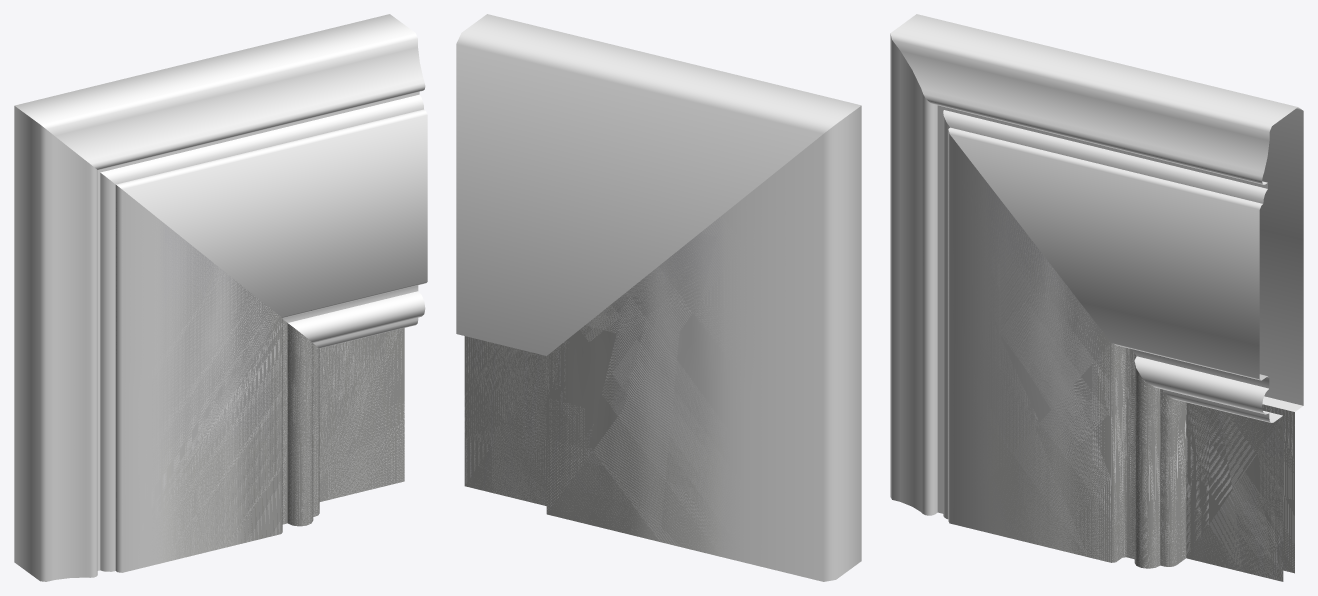
File: original-50.obj
3 views of the same model, side by side, from view 1: azimuth 30°, elevation 25°; view 2: azimuth 150°, elevation 25°; view 3: azimuth 330°, elevation 25° (orthographic).
Visible parts, largest first — view 1: RT_11_TL1/RT_11_TL/mesh39/mesh39-geometry#mesh39-geometry; view 2: RT_11_TL1/RT_11_TL/mesh39/mesh39-geometry#mesh39-geometry; view 3: RT_11_TL1/RT_11_TL/mesh39/mesh39-geometry#mesh39-geometry.
Boxes of the visible parts, x1,y1,x2,y2 form: RT_11_TL1/RT_11_TL/mesh39/mesh39-geometry#mesh39-geometry: (14, 14, 427, 581); RT_11_TL1/RT_11_TL/mesh39/mesh39-geometry#mesh39-geometry: (456, 14, 861, 581); RT_11_TL1/RT_11_TL/mesh39/mesh39-geometry#mesh39-geometry: (890, 14, 1303, 581).
Bounding box in the file's own units: 0.1374 × 0.1597 × 0.0273.
